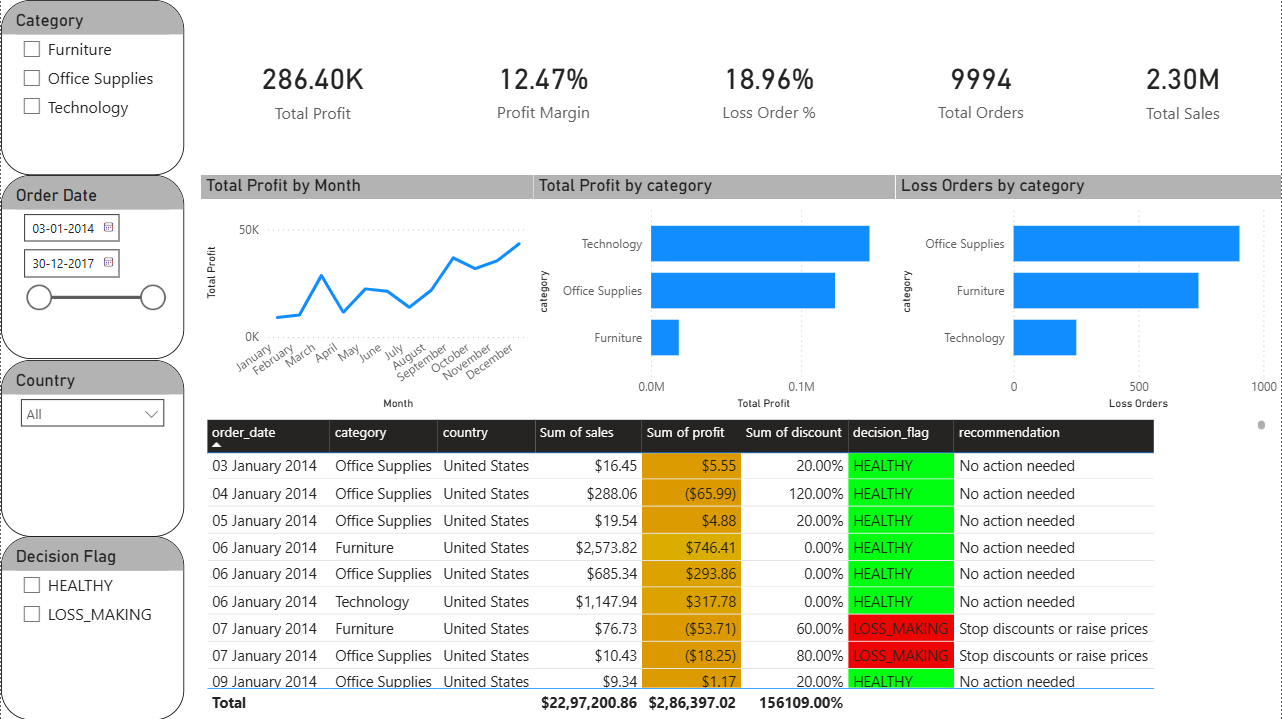

The dashboard page shown, as its layout file describes it:
{"tool":"powerbi","page":{"name":"Page 1","canvas":[1280,720],"ordinal":0},"visuals":[{"type":"card","fields":{"Values":["decision_engine_bi_fact.Profit Margin"]},"box":[424.2,0,237.6,175.4],"z":0},{"type":"card","fields":{"Values":["decision_engine_bi_fact.Total Orders"]},"box":[875.7,0,207.7,175.4],"z":1000},{"type":"card","fields":{"Values":["decision_engine_bi_fact.Loss Order %"]},"box":[661.8,0,214,175.4],"z":2000},{"type":"card","fields":{"Values":["decision_engine_bi_fact.Total Sales"]},"box":[1083.5,1.2,196.5,174.2],"z":3000},{"type":"card","fields":{"Values":["decision_engine_bi_fact.Total Profit"]},"box":[200.3,1.2,223.9,174.2],"z":4000},{"type":"lineChart","fields":{"Category":["dim_date.order_date.Variation.Date Hierarchy.Month"],"Y":["decision_engine_bi_fact.Total Profit"]},"box":[200.3,175.4,332.1,240.1],"z":5000},{"type":"clusteredBarChart","fields":{"Category":["dim_category.category"],"Y":["decision_engine_bi_fact.Total Profit"]},"box":[532.4,175.4,362,240.1],"z":6000},{"type":"clusteredBarChart","fields":{"Category":["dim_category.category"],"Y":["decision_engine_bi_fact.Loss Orders"]},"box":[894.4,175.4,385.6,240.1],"z":7000},{"type":"tableEx","fields":{"Values":["decision_engine_bi_fact.order_date","decision_engine_bi_fact.category","decision_engine_bi_fact.country","Sum(decision_engine_bi_fact.sales)","Sum(decision_engine_bi_fact.profit)","Sum(decision_engine_bi_fact.discount)","decision_engine_bi_fact.decision_flag","decision_engine_bi_fact.recommendation"]},"box":[200.3,415.5,1069.8,304.8],"z":8000},{"type":"slicer","title":"Order Date","fields":{"Values":["decision_engine_bi_fact.order_date"]},"box":[0,175.4,182.9,184.1],"z":8001},{"type":"slicer","title":"Country","fields":{"Values":["decision_engine_bi_fact.country"]},"box":[0,359.5,182.9,176.6],"z":8002},{"type":"slicer","title":"Category","fields":{"Values":["decision_engine_bi_fact.category"]},"box":[0,0,182.9,175.4],"z":8003},{"type":"slicer","title":"Decision Flag","fields":{"Values":["decision_engine_bi_fact.decision_flag"]},"box":[0,536.1,182.9,184.1],"z":8004}]}

Visuals, with their boxes in screenshot pixels (x1, y1, x2, y2), scaled from the page's 1280x720 canvas onto the 1282x719 screenshot:
card - decision_engine_bi_fact.Profit Margin: 425 0 663 175
card - decision_engine_bi_fact.Total Orders: 877 0 1085 175
card - decision_engine_bi_fact.Loss Order %: 663 0 877 175
card - decision_engine_bi_fact.Total Sales: 1085 1 1281 175
card - decision_engine_bi_fact.Total Profit: 201 1 425 175
lineChart - dim_date.order_date.Variation.Date Hierarchy.Month x decision_engine_bi_fact.Total Profit: 201 175 533 415
clusteredBarChart - dim_category.category x decision_engine_bi_fact.Total Profit: 533 175 896 415
clusteredBarChart - dim_category.category x decision_engine_bi_fact.Loss Orders: 896 175 1281 415
tableEx - decision_engine_bi_fact.order_date x decision_engine_bi_fact.category: 201 415 1272 718
"Order Date" slicer: 0 175 183 359
"Country" slicer: 0 359 183 535
"Category" slicer: 0 0 183 175
"Decision Flag" slicer: 0 535 183 718
